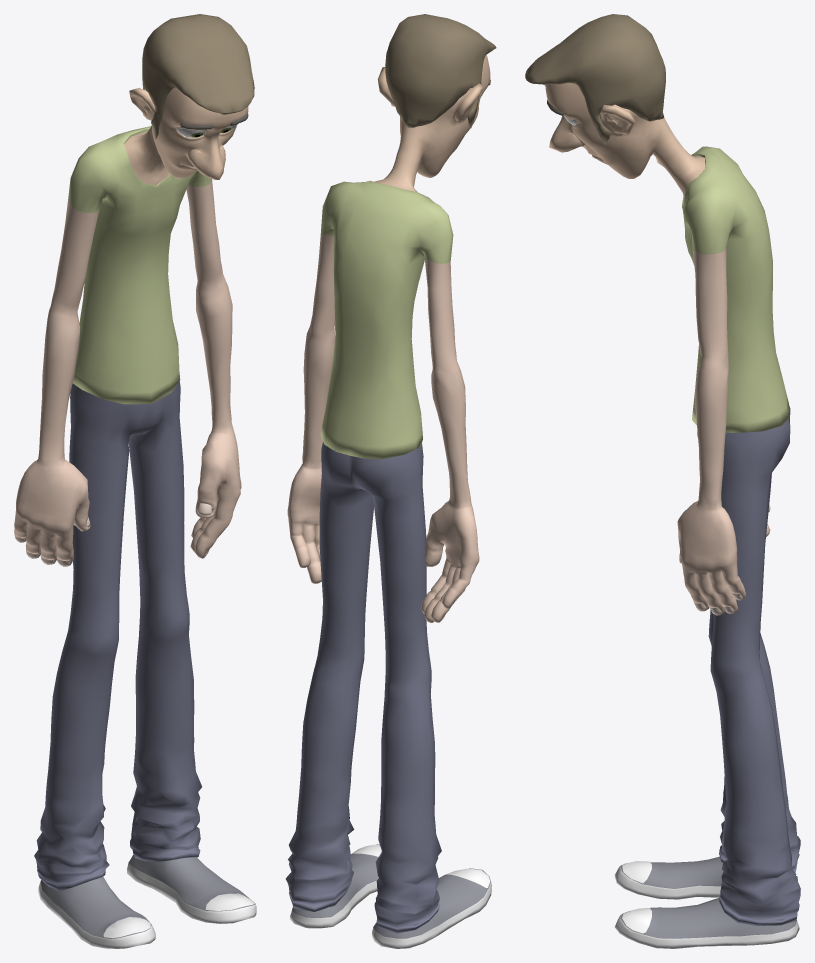
File: sadPose 1.fbx
3 renders of one model, left to right at view 1: azimuth 30°, elevation 25°; view 2: azimuth 150°, elevation 25°; view 3: azimuth 270°, elevation 25°, orthographic. The views are drawn at different scales.
Parts seen in each view (by area): view 1: sadPose; view 2: sadPose; view 3: sadPose.
Boxes of the visible parts, x1,y1,x2,y2 form: sadPose: (14,14,256,948); sadPose: (285,14,496,948); sadPose: (525,14,800,948).
Bounding box in the file's own units: 2.04 × 8.54 × 2.4.
